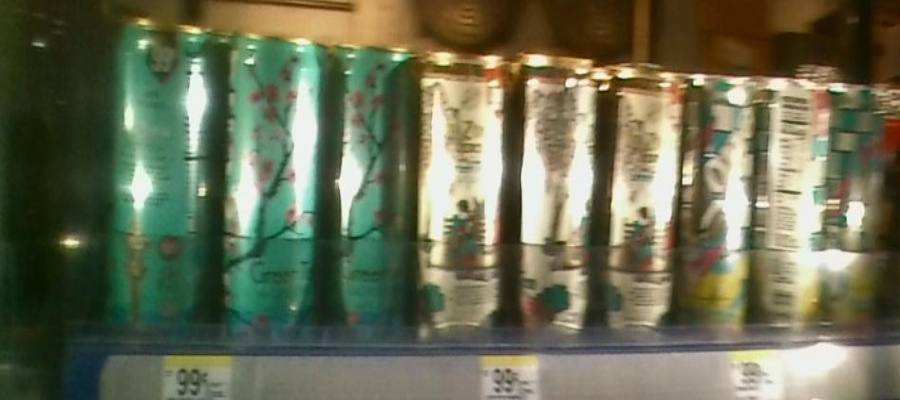bottle: (103, 11, 217, 351), (220, 9, 325, 347), (414, 29, 506, 337), (510, 25, 595, 343), (329, 24, 411, 339), (598, 39, 683, 342), (687, 50, 760, 350), (764, 43, 832, 346), (834, 43, 881, 347)
